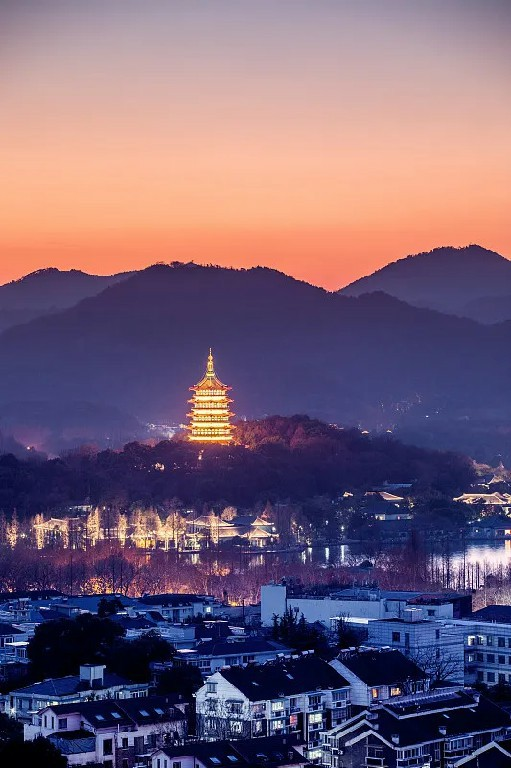Leifeng: (182, 346, 237, 448)
